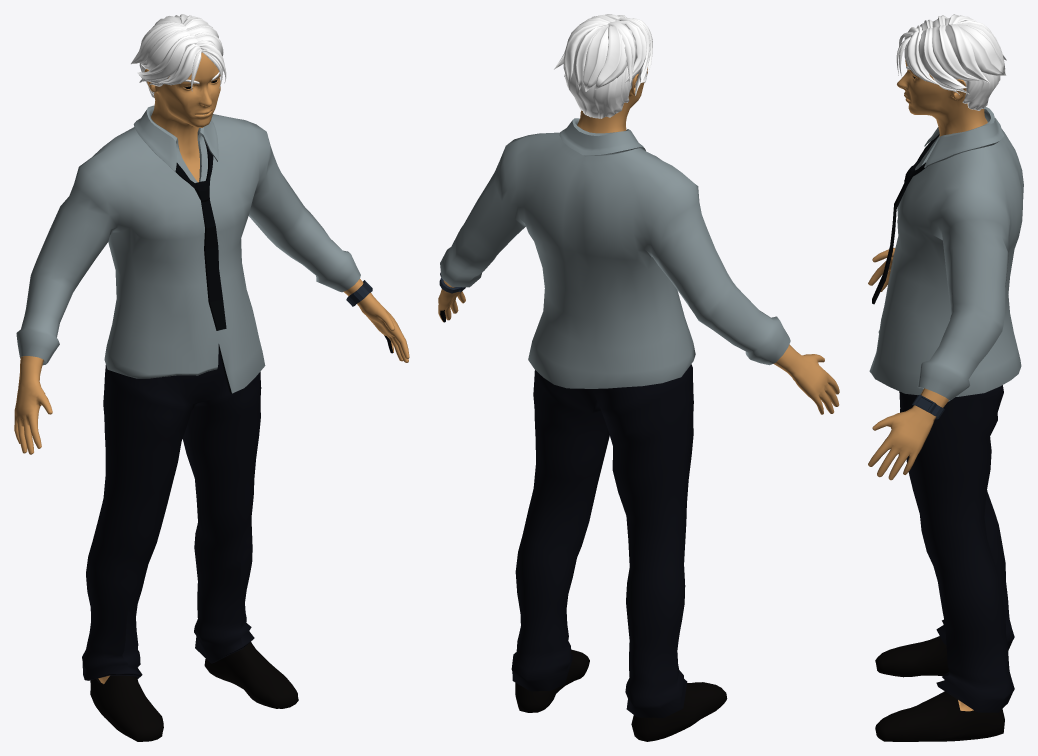
The model's file is Lau_DeformJoints_mesh.fbx.
3 renders of one model, left to right at view 1: azimuth 30°, elevation 25°; view 2: azimuth 150°, elevation 25°; view 3: azimuth 270°, elevation 25°, orthographic.
Parts seen in each view (by area): view 1: Geo_Body1, Geo_Head1; view 2: Geo_Body1, Geo_Head1; view 3: Geo_Body1, Geo_Head1.
Boxes of the visible parts, bbox=[...] form: Geo_Body1: bbox=[14, 105, 409, 741]; Geo_Head1: bbox=[131, 14, 226, 182]; Geo_Body1: bbox=[438, 118, 839, 741]; Geo_Head1: bbox=[553, 14, 652, 133]; Geo_Body1: bbox=[868, 107, 1023, 741]; Geo_Head1: bbox=[896, 14, 1006, 136].
Size of the model in its own units: 103 by 174 by 36.09.
